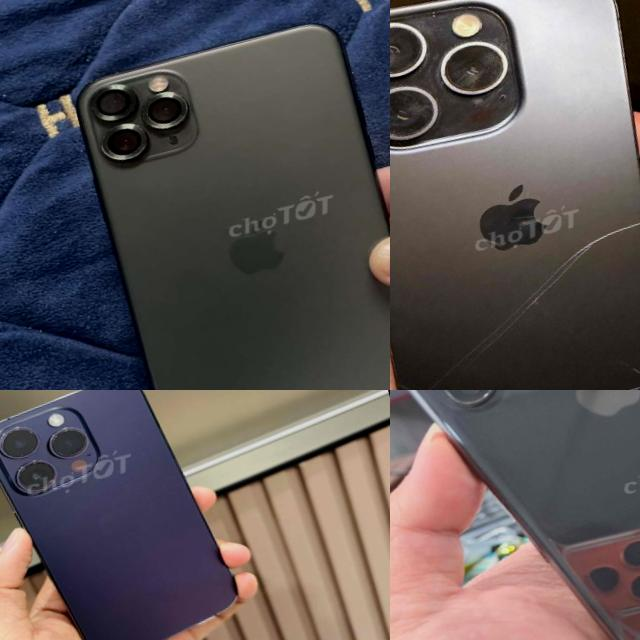gen_11: (75, 25, 390, 390)
gen_14: (0, 390, 257, 640)
gen_15: (390, 0, 640, 390)
gen_x_xs: (410, 390, 640, 640)
